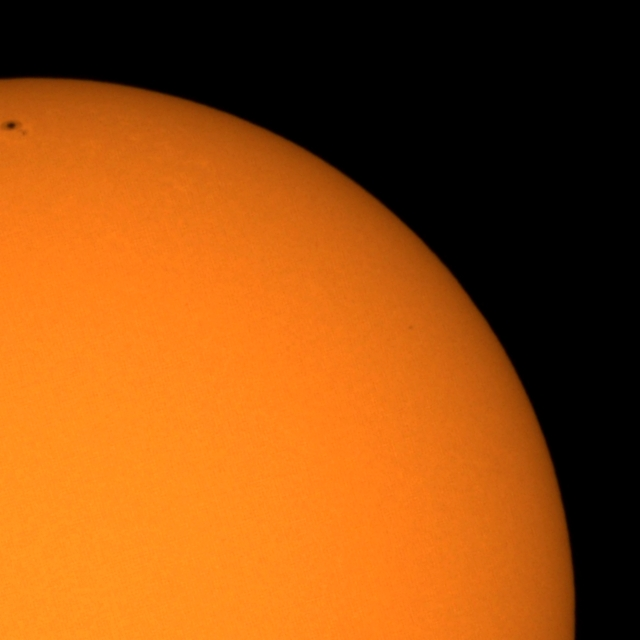sunspot: (1, 119, 29, 138), (407, 323, 415, 332)
